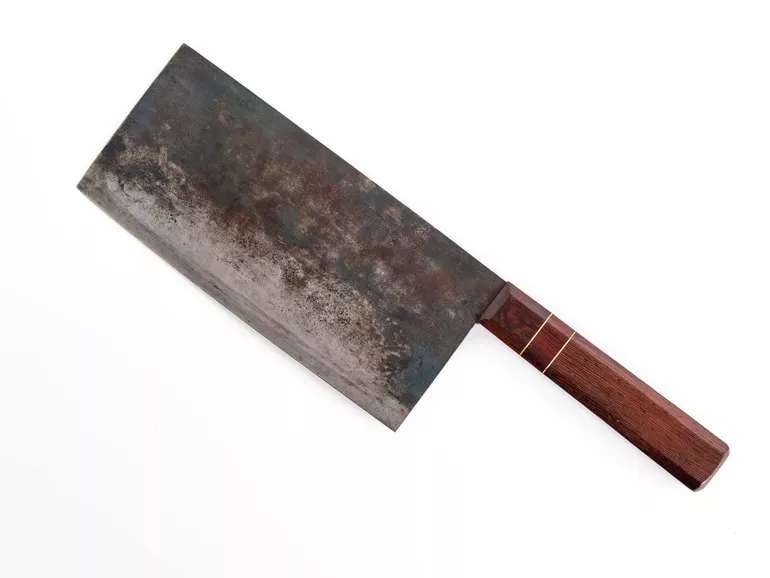knife: (61, 39, 734, 497)
